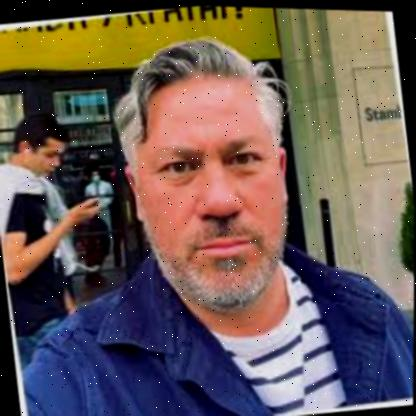person: (107, 29, 310, 331), (6, 109, 71, 184)
